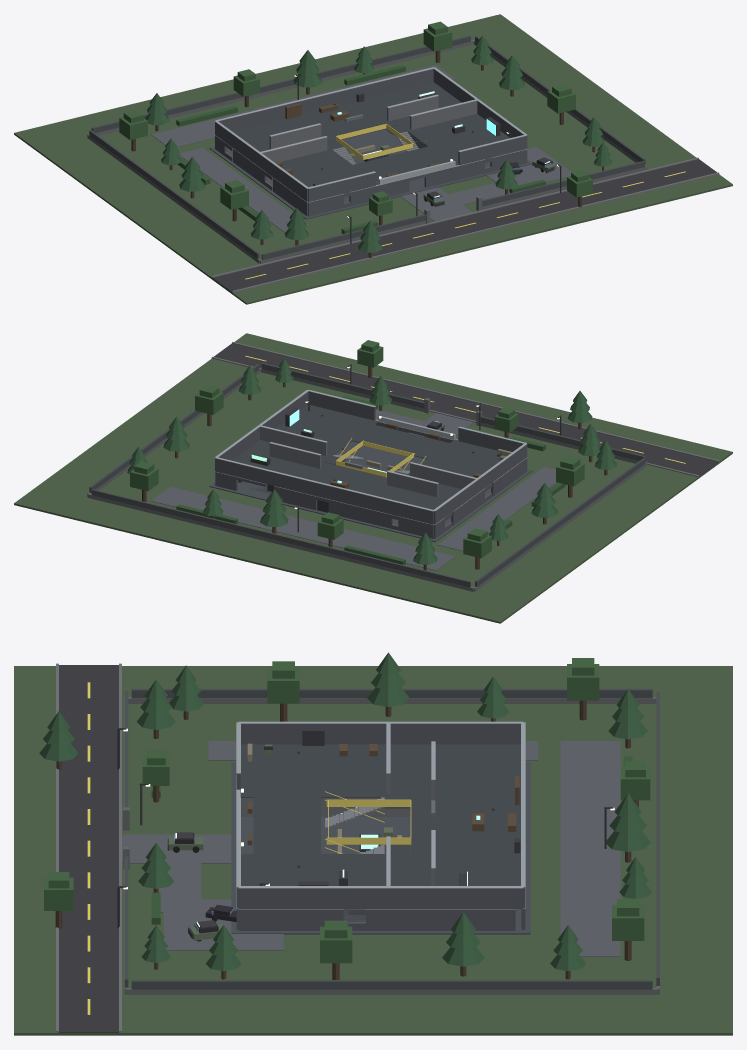
Rendered from tactical_compound_map.glb.
3 views of the same model, one above another, from view 1: azimuth 30°, elevation 25°; view 2: azimuth 150°, elevation 25°; view 3: azimuth 270°, elevation 25° (orthographic). The views are drawn at different scales.
Parts seen in each view (by area): view 1: Terrain_Grass, Road_South, F2_Slab_EastWing, F2_Slab_WestWing, F2_Wall_N_Full, Path_WestGarden, F2_Slab_NorthSuite, F1_Foundation_Slab, Fence_North_Wire, Path_NorthBackyard, F2_Slab_SouthBridge, Fence_West_Wire (+33 smaller); view 2: Terrain_Grass, Road_South, Path_NorthBackyard, F2_Slab_EastWing, F2_Wall_N_Full, F2_Slab_WestWing, Fence_North_Wire, Path_WestGarden, F1_Foundation_Slab, Fence_North_Base, F2_Slab_SouthBridge, F2_Slab_NorthSuite (+28 smaller); view 3: Terrain_Grass, Road_South, F2_Slab_WestWing, Path_NorthBackyard, F2_Slab_EastWing, F2_Wall_E_Full, F2_Slab_NorthSuite, F1_Foundation_Slab, F2_Wall_W_Full, Fence_East_Wire, Fence_West_Wire, F2_Slab_SouthBridge (+26 smaller).
Part boxes in pixels (x1,y1,x2,y2): Terrain_Grass: (14,14,732,304); Road_South: (213,159,716,291); F2_Slab_EastWing: (364,82,509,165); F2_Slab_WestWing: (232,118,378,186); F2_Wall_N_Full: (219,69,433,130); Path_WestGarden: (179,148,308,232); F2_Slab_NorthSuite: (290,100,398,142); F1_Foundation_Slab: (209,129,532,219); Fence_North_Wire: (91,35,470,133); Path_NorthBackyard: (151,65,455,147); F2_Slab_SouthBridge: (353,146,448,180); Fence_West_Wire: (89,130,259,258); Terrain_Grass: (14,333,732,623); Road_South: (214,343,718,476); Path_NorthBackyard: (151,486,455,570); F2_Slab_EastWing: (232,405,378,477); F2_Wall_N_Full: (215,458,433,524); F2_Slab_WestWing: (378,439,501,509); Fence_North_Wire: (91,489,470,587); Path_WestGarden: (438,467,556,551); F1_Foundation_Slab: (209,441,532,541); Fence_North_Base: (88,493,474,591); F2_Slab_SouthBridge: (353,424,449,459); F2_Slab_NorthSuite: (302,462,390,496); Terrain_Grass: (14,666,732,1035); Road_South: (59,665,118,1032); F2_Slab_WestWing: (240,744,520,797); Path_NorthBackyard: (560,741,620,956); F2_Slab_EastWing: (241,854,520,885); F2_Wall_E_Full: (238,888,523,908); F2_Slab_NorthSuite: (411,797,520,853); F1_Foundation_Slab: (231,762,530,934); F2_Wall_W_Full: (241,724,520,744); Fence_East_Wire: (131,980,652,989); Fence_West_Wire: (131,688,652,698); F2_Slab_SouthBridge: (253,797,320,853).
Size of the model in its own units: 116 by 10.58 by 96.
